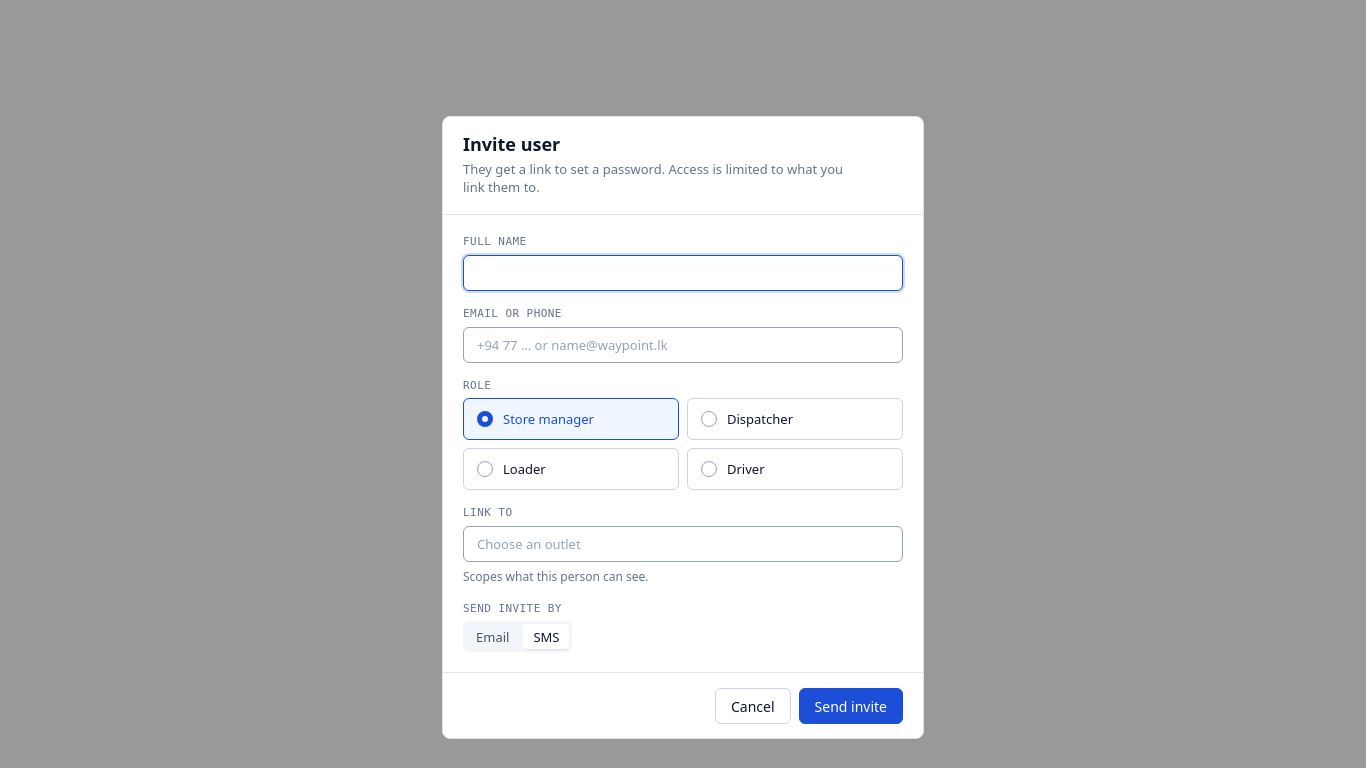
A2 Invite user › asks for a vehicle once Driver is picked
Expected: the text "Choose an outlet" is shown, [477,535,581,554]
Click the radio button labelled "Driver" at (795, 469), box [687,448,903,490]
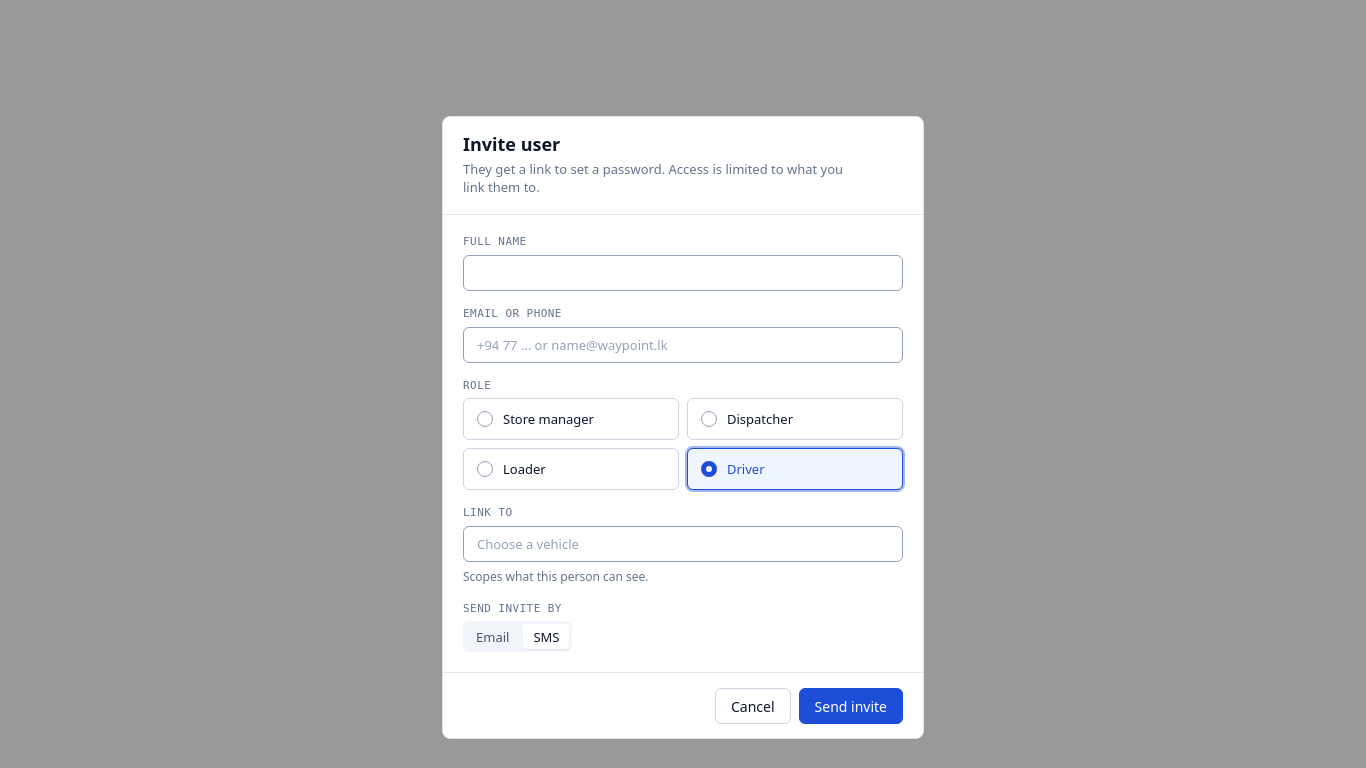
Now the text "Choose a vehicle" is shown, box [477,535,579,554]
